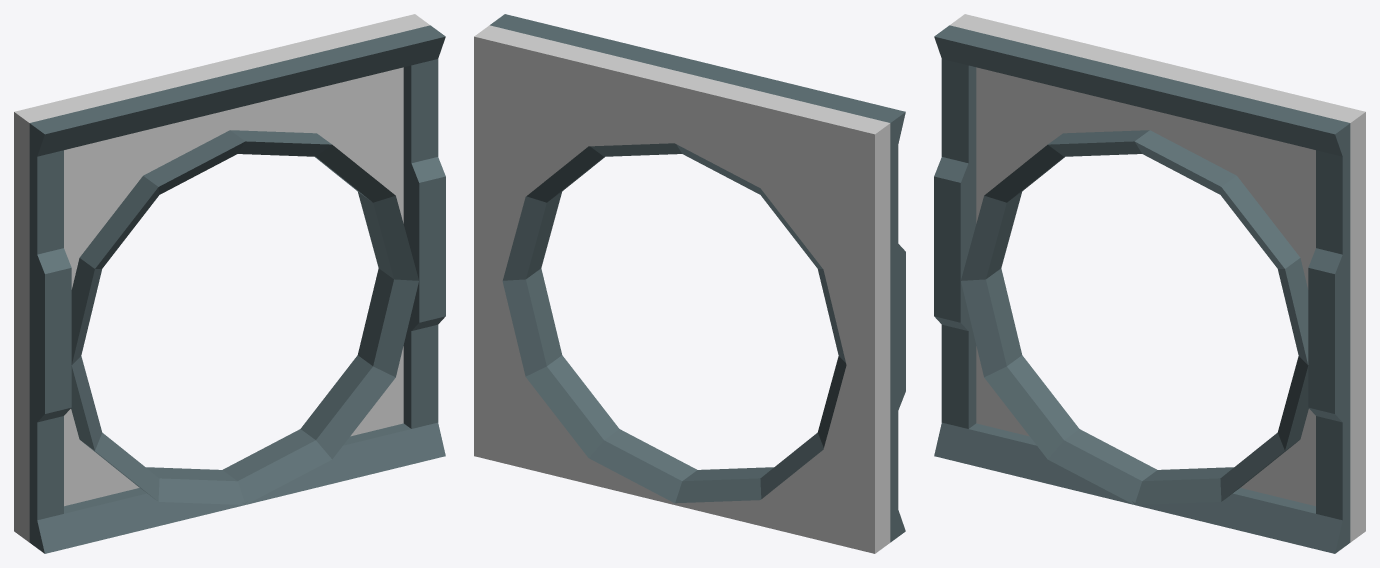
Rendered from scifi_wall_1sided_door_round.fbx.
3 views of the same model, side by side, from view 1: azimuth 30°, elevation 25°; view 2: azimuth 150°, elevation 25°; view 3: azimuth 330°, elevation 25° (orthographic).
Parts seen in each view (by area): view 1: Cube.017; view 2: Cube.017; view 3: Cube.017.
Part boxes in pixels (x1,y1,x2,y2): Cube.017: [14, 14, 445, 553]; Cube.017: [474, 14, 905, 553]; Cube.017: [934, 14, 1365, 553].
Bounding box in the file's own units: 3 × 3 × 0.4.
